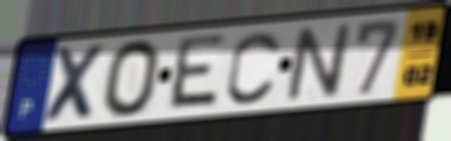7: (353, 17, 403, 97)
C: (224, 29, 285, 108)
E: (163, 32, 229, 112)
N: (284, 20, 353, 104)
O: (100, 36, 164, 120)
X: (40, 42, 110, 126)
